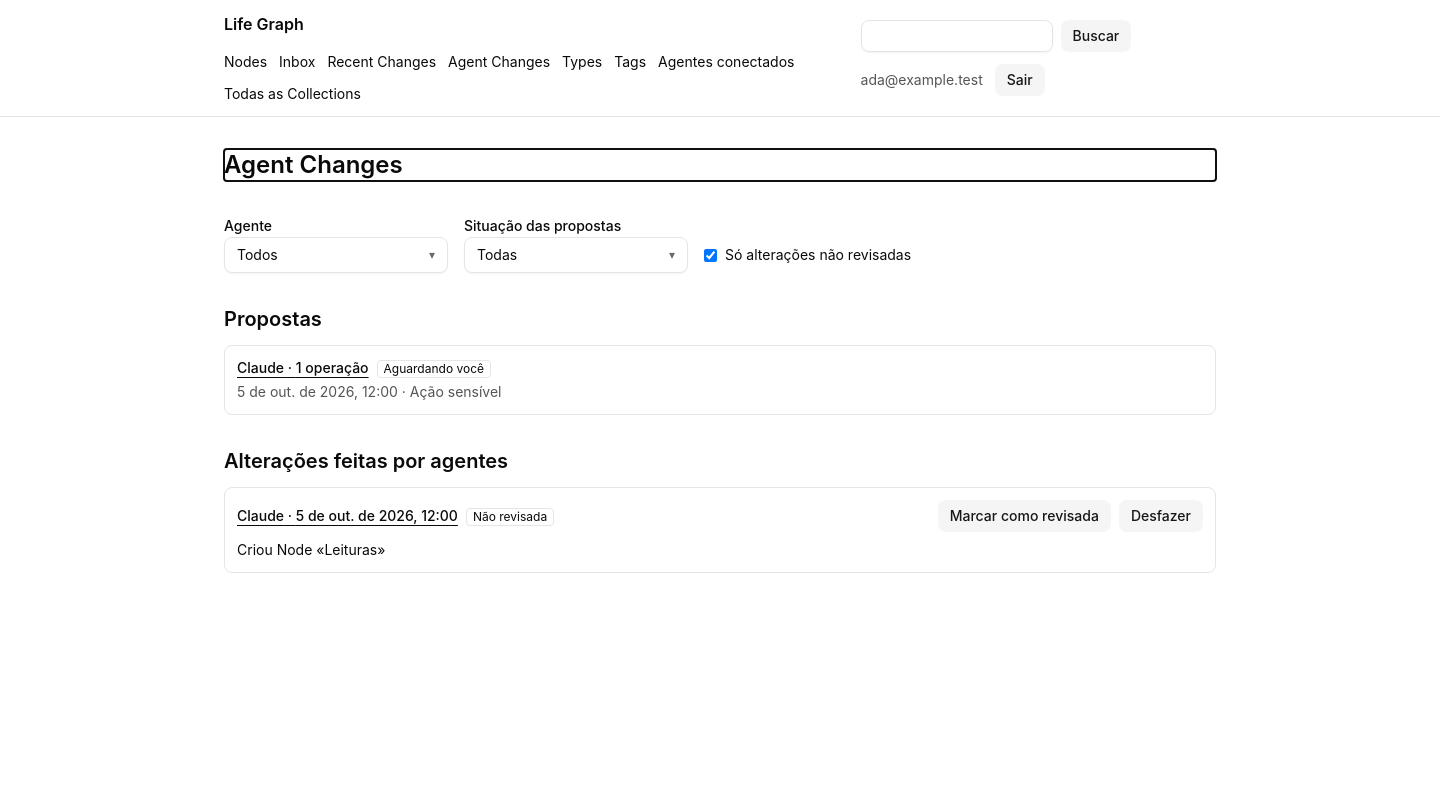
Test: Agent Changes › keeps focus on the outcome when the reviewed card leaves the unreviewed list
Click the button "Marcar como revisada" at (1024, 516), box [938,500,1111,532]
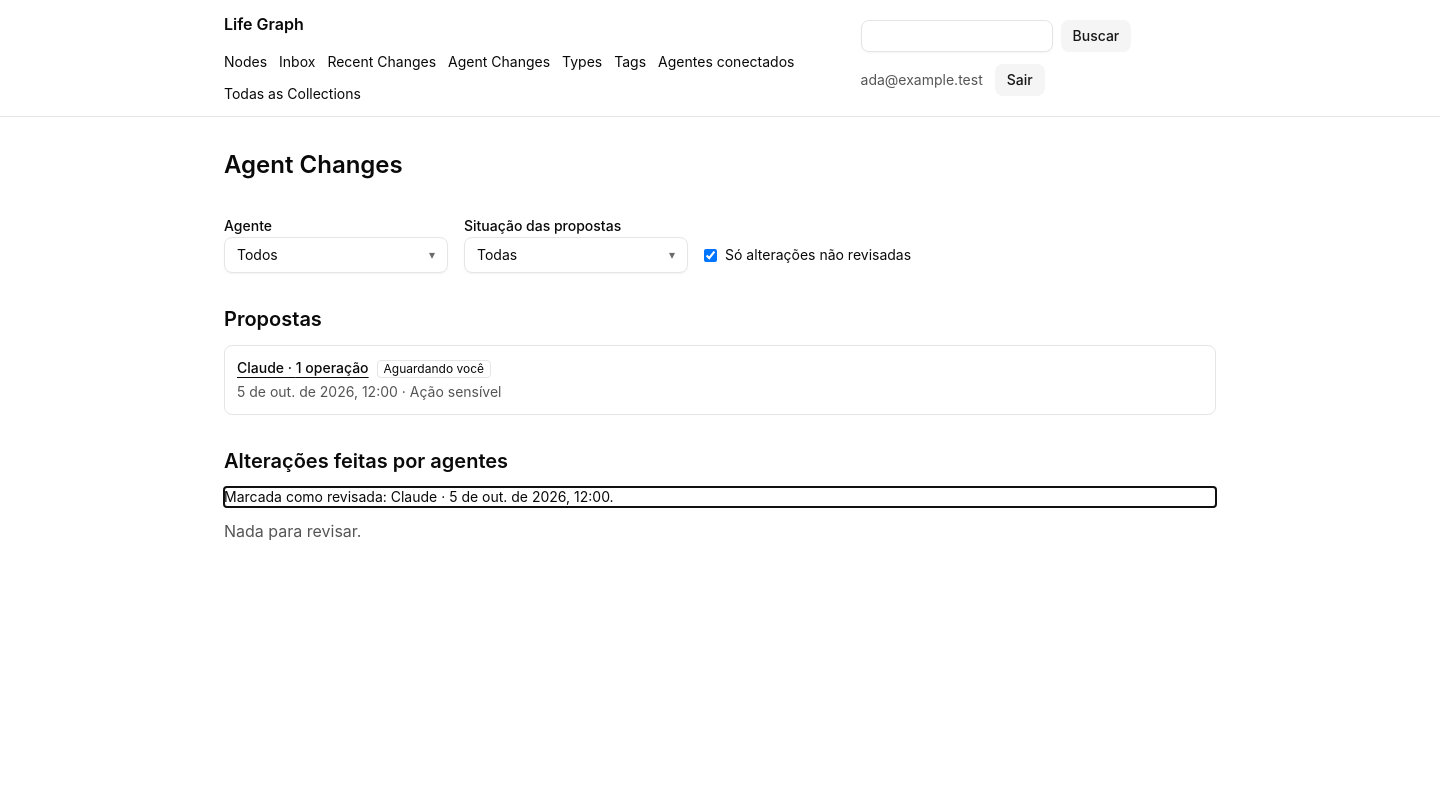
Expected: the text "Nada para revisar." is shown, [224,521,362,541]
